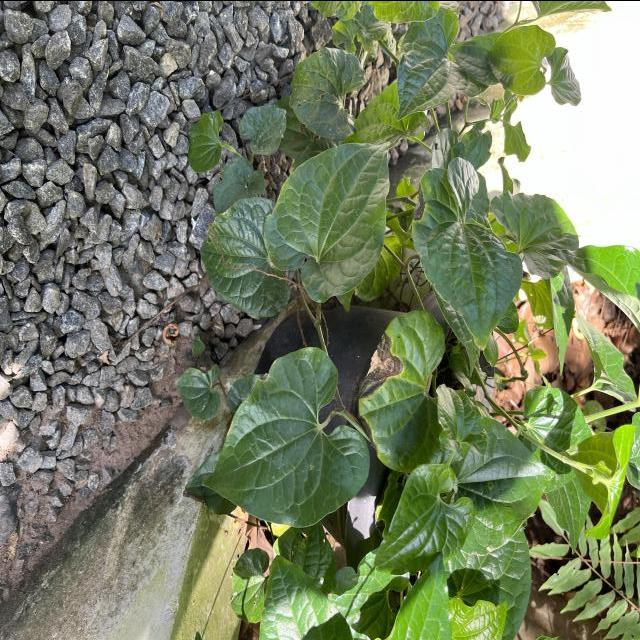Piper longum: (202, 344, 372, 529), (264, 136, 396, 304), (371, 459, 478, 578), (394, 3, 496, 125), (434, 379, 489, 462)
